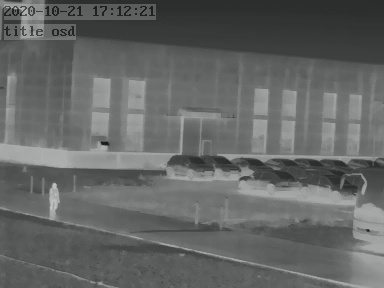person: (47, 180, 60, 218)
vehicle: (238, 169, 303, 191), (163, 153, 213, 179), (203, 153, 242, 177), (232, 154, 269, 171), (344, 155, 379, 171), (262, 155, 296, 170), (320, 156, 351, 171), (296, 155, 325, 169)
